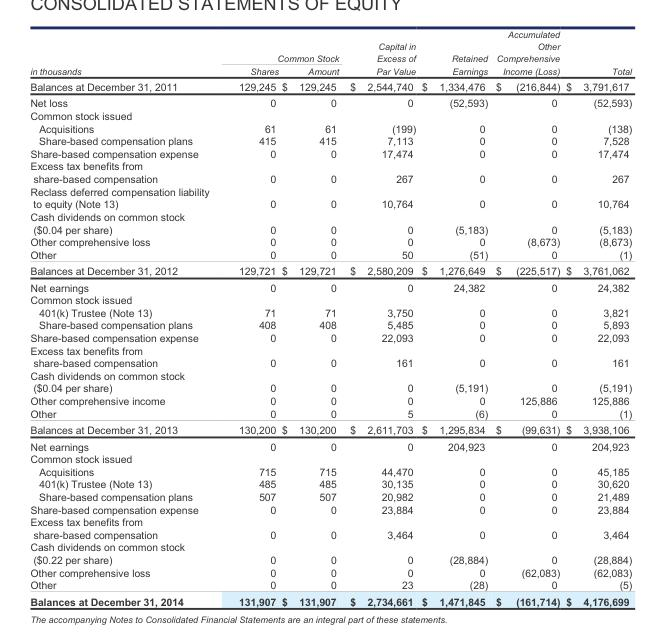table: (29, 28, 631, 606)
table column: (29, 28, 217, 606), (343, 28, 418, 606), (418, 28, 491, 606), (491, 28, 562, 606), (562, 28, 631, 606), (279, 28, 343, 606), (217, 28, 279, 606)
table column header: (29, 28, 631, 78)
table projected row header: (29, 159, 631, 172), (29, 184, 631, 197), (29, 209, 631, 222), (29, 343, 631, 356), (29, 368, 631, 381), (29, 540, 631, 553), (29, 109, 631, 121), (29, 293, 631, 305), (29, 452, 631, 464), (29, 515, 631, 527)
table row: (29, 28, 631, 64), (29, 78, 631, 94), (29, 262, 631, 278), (29, 421, 631, 437), (29, 94, 631, 109), (29, 247, 631, 262), (29, 278, 631, 293), (29, 406, 631, 421), (29, 437, 631, 452), (29, 64, 631, 78), (29, 578, 631, 592), (29, 592, 631, 606), (29, 121, 631, 134), (29, 146, 631, 159), (29, 159, 631, 172), (29, 184, 631, 197), (29, 209, 631, 222), (29, 222, 631, 235), (29, 305, 631, 318), (29, 318, 631, 331), (29, 343, 631, 356), (29, 368, 631, 381), (29, 381, 631, 394), (29, 464, 631, 477), (29, 477, 631, 490), (29, 502, 631, 515), (29, 527, 631, 540), (29, 540, 631, 553), (29, 565, 631, 578), (29, 109, 631, 121), (29, 134, 631, 146), (29, 172, 631, 184), (29, 197, 631, 209), (29, 235, 631, 247), (29, 293, 631, 305), (29, 331, 631, 343), (29, 356, 631, 368), (29, 394, 631, 406), (29, 452, 631, 464), (29, 490, 631, 502), (29, 515, 631, 527), (29, 553, 631, 565)
table spanning cell: (29, 28, 217, 78), (217, 28, 343, 64), (343, 28, 418, 78), (418, 28, 491, 78), (491, 28, 562, 78), (562, 28, 631, 78)
